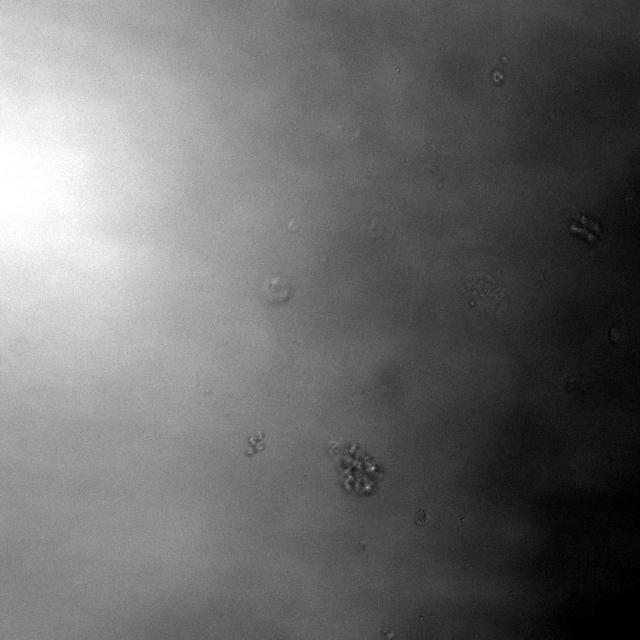organoid: (329, 441, 383, 497), (569, 214, 601, 245), (245, 434, 264, 456), (414, 509, 430, 525)
